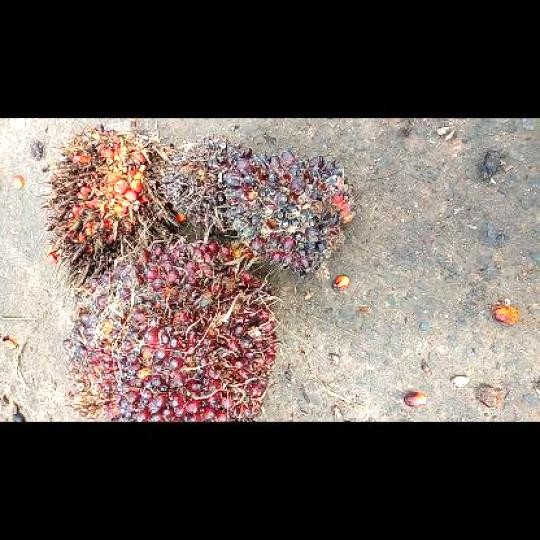masak: (59, 236, 286, 421)
terlalu masak: (38, 124, 172, 294)
